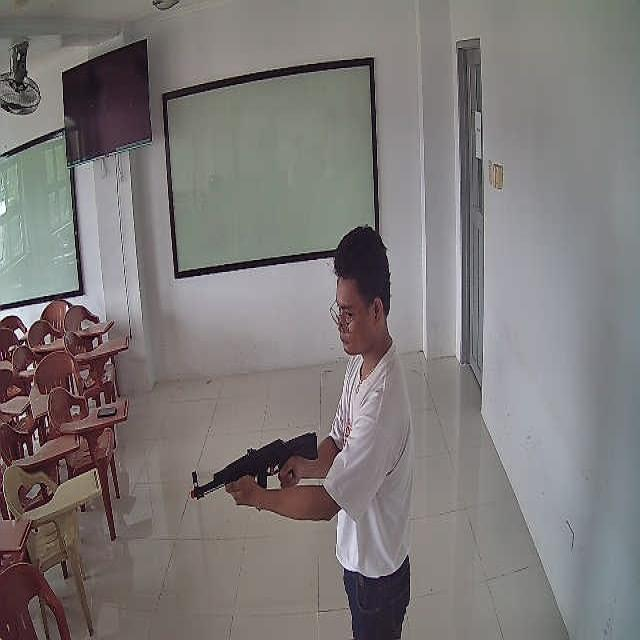rifle: (189, 432, 318, 511)
